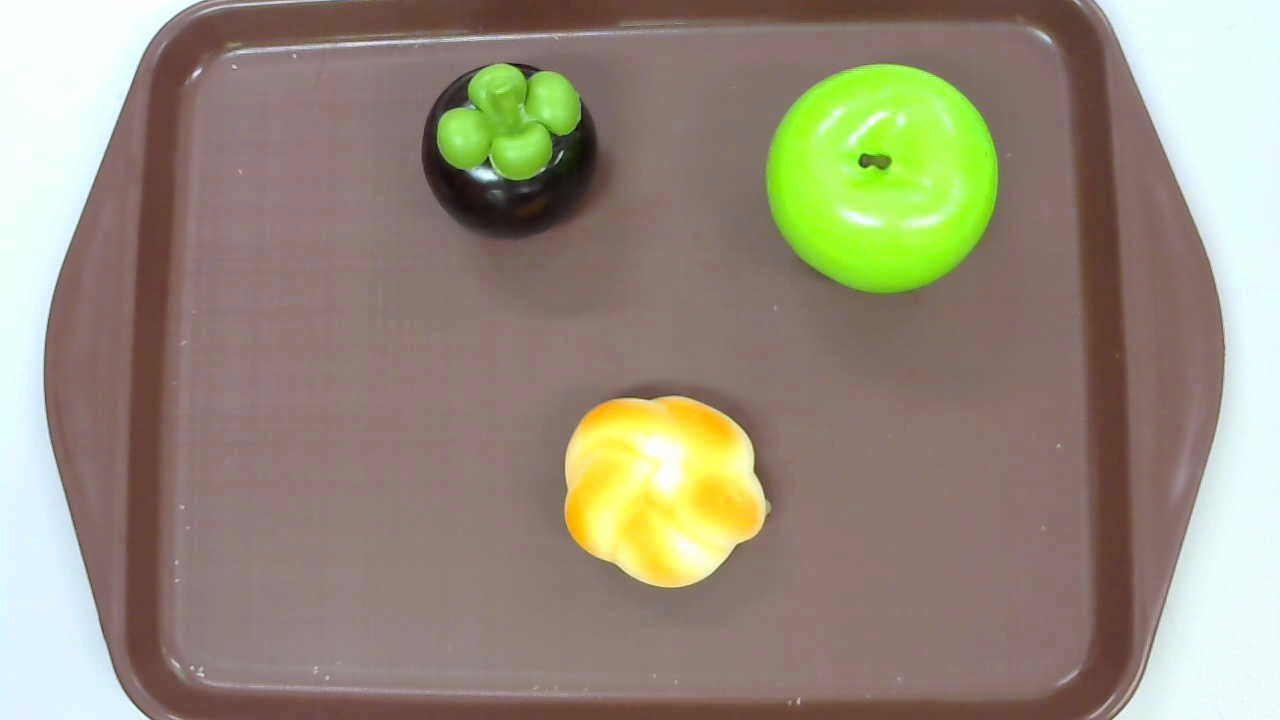green apple: (766, 63, 997, 295)
mangosteen: (420, 61, 597, 240)
twist bread: (564, 395, 772, 588)
